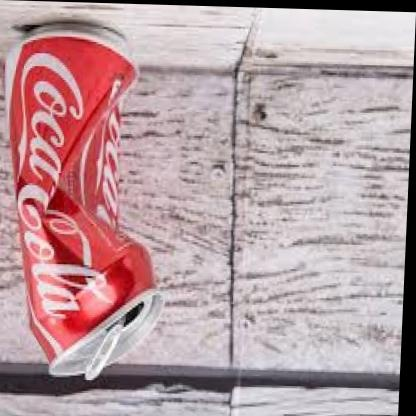trash: (7, 20, 163, 379)
